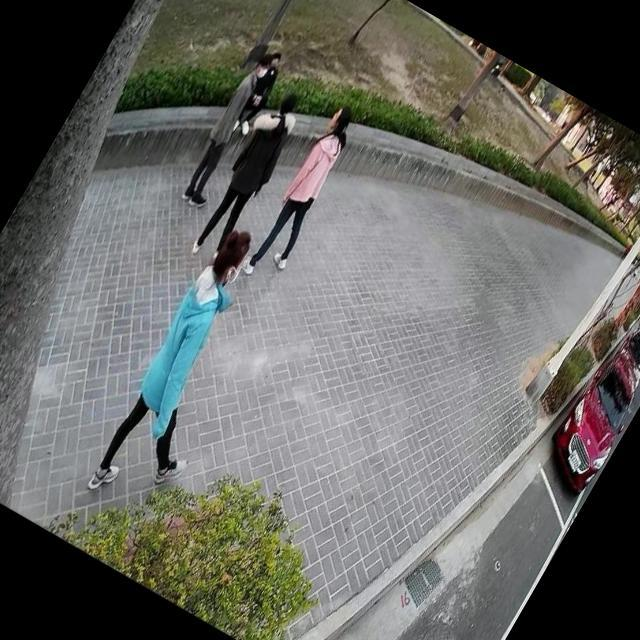person: (74, 214, 308, 529), (228, 92, 374, 296), (178, 79, 315, 271), (168, 44, 290, 215), (226, 46, 294, 142), (623, 255, 640, 290)
